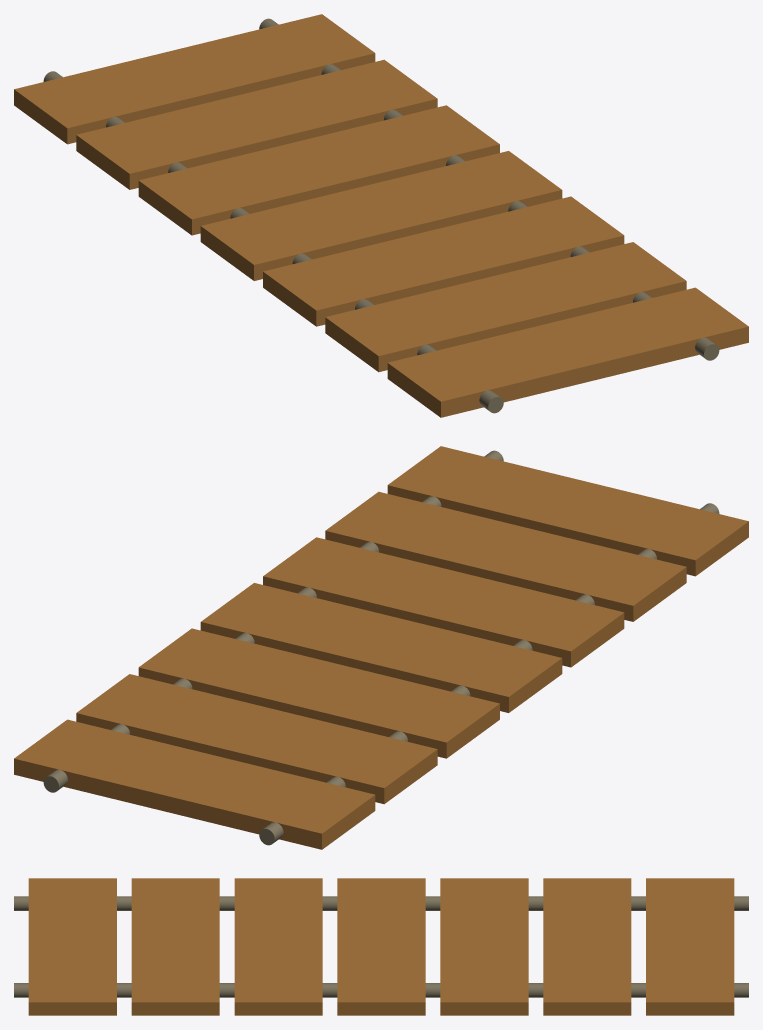
The model's file is Bridge.gltf.
3 views of the same model, one above another, from view 1: azimuth 30°, elevation 25°; view 2: azimuth 150°, elevation 25°; view 3: azimuth 270°, elevation 25° (orthographic). The views are drawn at different scales.
Visible parts, largest first — view 1: 円柱; view 2: 円柱; view 3: 円柱.
Part boxes in pixels (x1=…): 円柱: x1=14, y1=14, x2=748, y2=417; 円柱: x1=14, y1=446, x2=748, y2=849; 円柱: x1=14, y1=878, x2=748, y2=1015.
Bounding box in the file's own units: 20 × 1 × 50.
Materials: 1 (1 with a texture image).
